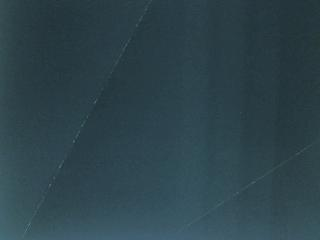crack: (21, 0, 153, 240), (168, 138, 319, 240)
